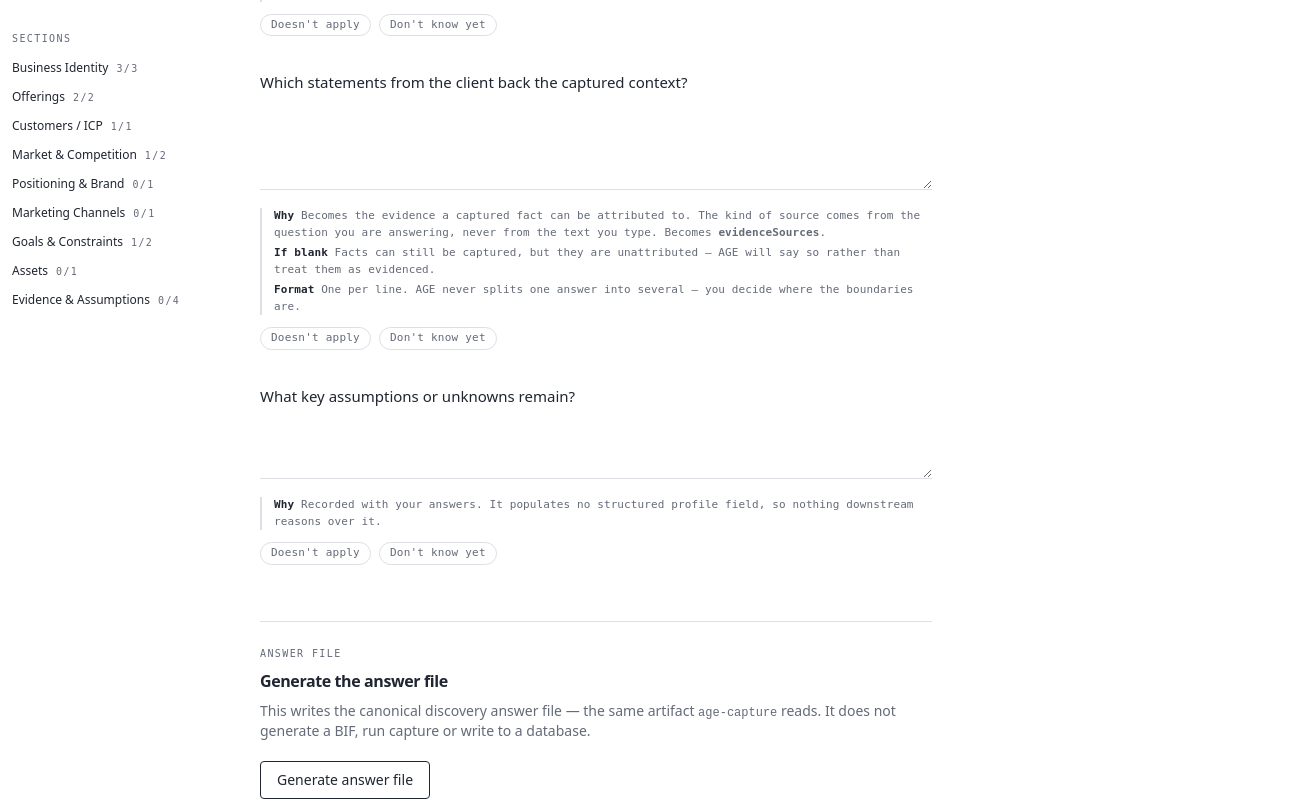
it: DiscoveryForm › submit › is enabled on a complete draft, and writes the answer file when pressed
(page scrolled)
Click the button "Generate answer file" at (345, 780), box top-left (260, 761), bottom-right (430, 798)
(page scrolled)
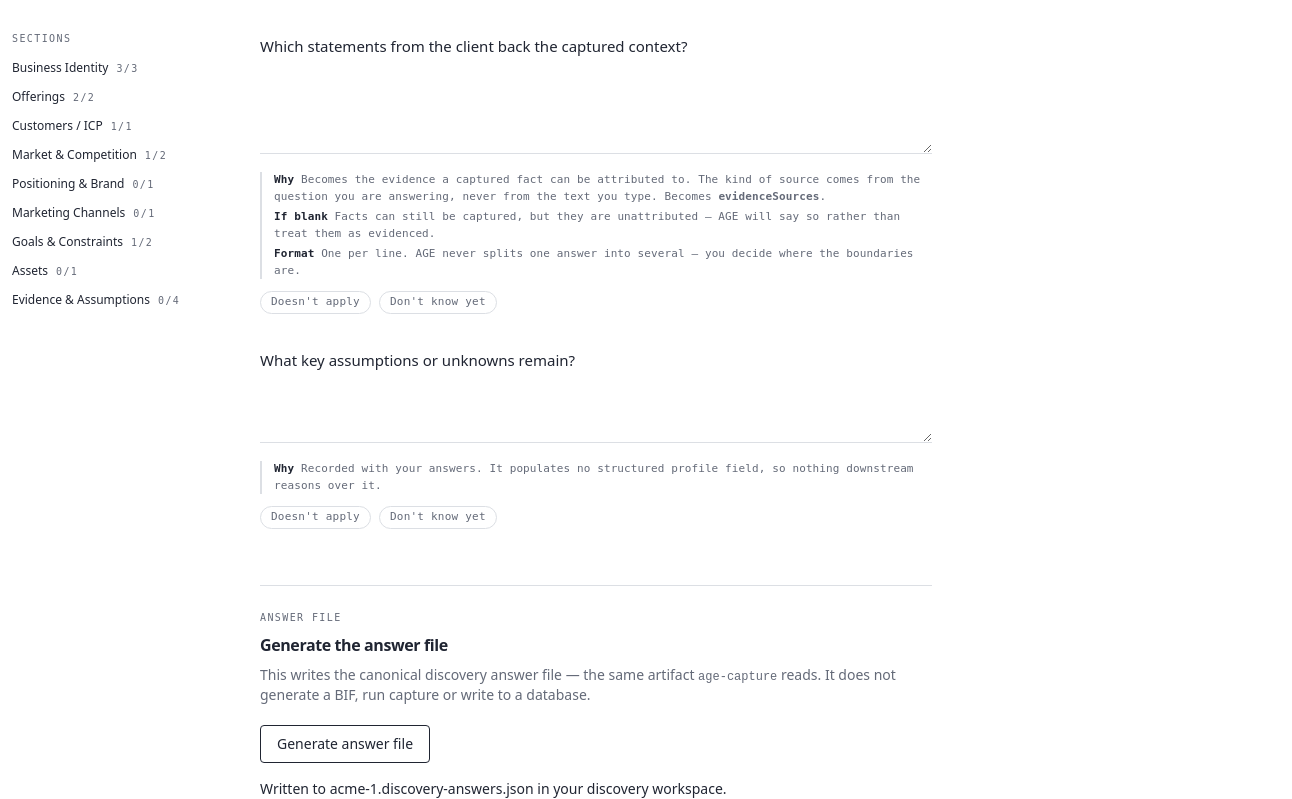
expect the text "Written to acme-1.discovery-answers.json" is shown: met, box top-left (260, 779), bottom-right (726, 798)
